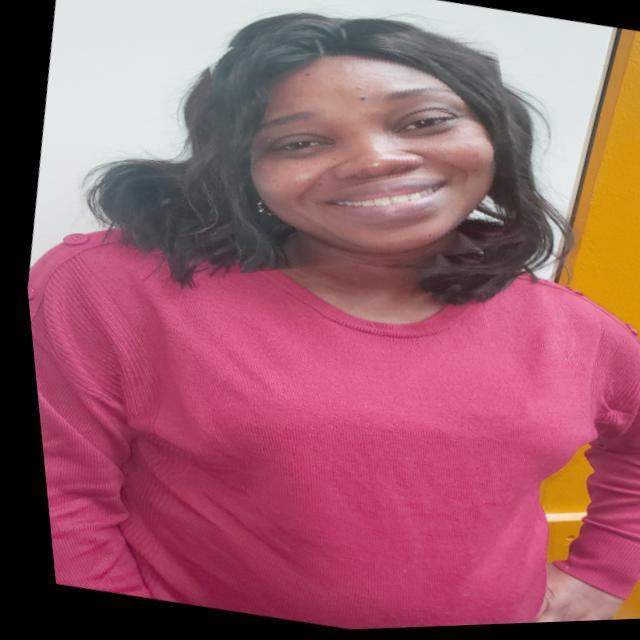happy: (174, 0, 553, 312)
